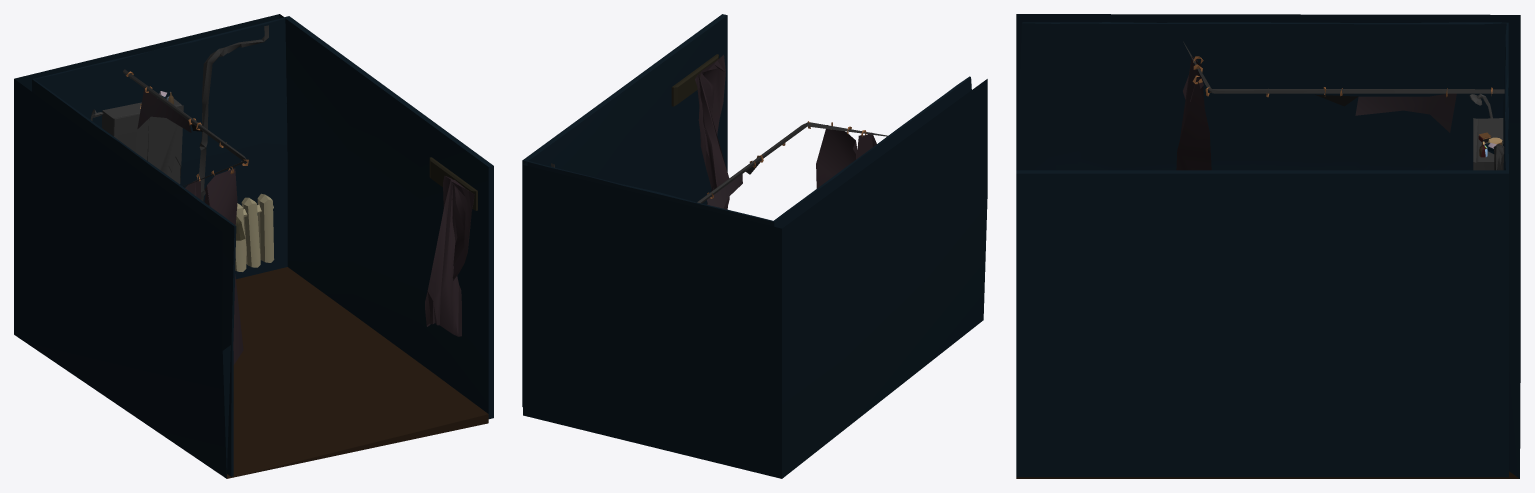
File: retoilet2.fbx
3 renders of one model, left to right at view 1: azimuth 30°, elevation 25°; view 2: azimuth 150°, elevation 25°; view 3: azimuth 270°, elevation 25°, orthographic. The views are drawn at different scales.
Parts seen in each view (by area): view 1: Cube; view 2: Cube; view 3: Cube.
Boxes of the visible parts, x1,y1,x2,y2 form: Cube: (14, 14, 493, 478); Cube: (522, 14, 987, 478); Cube: (1016, 14, 1520, 478).
Bounding box in the file's own units: 222 × 200 × 296.
